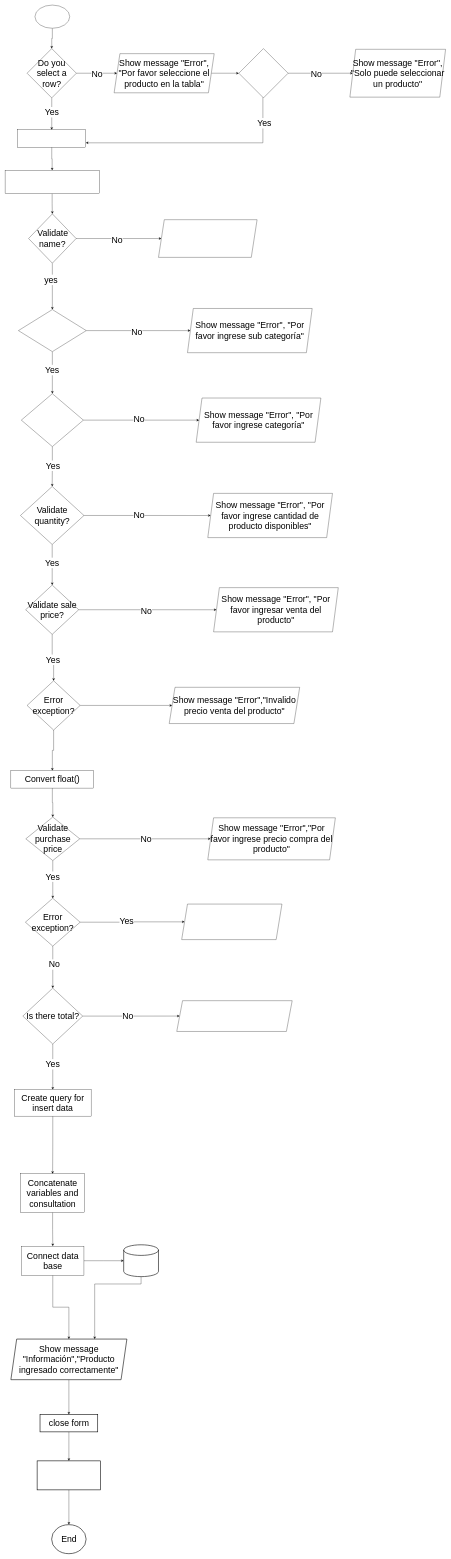
Image size: 451x1559. Some labels were removed from this diagram. Here are the shapes that lost their labels. From the top down, the centre of each, then its label:
[52,16]: Start
[263,73]: Do you select row in the table?
[51,138]: Show form
[52,182]: Insert table data to the form
[207,238]: Show message "Error","Por favor ingrese nombre"
[52,330]: Validate subcategory?
[52,420]: Validate category?
[231,922]: Show message "Error","Precio compra invalido"
[234,1015]: Show message "Error", "Debe calcular el total"
[141,1260]: Store.db
[69,1475]: Show product list
